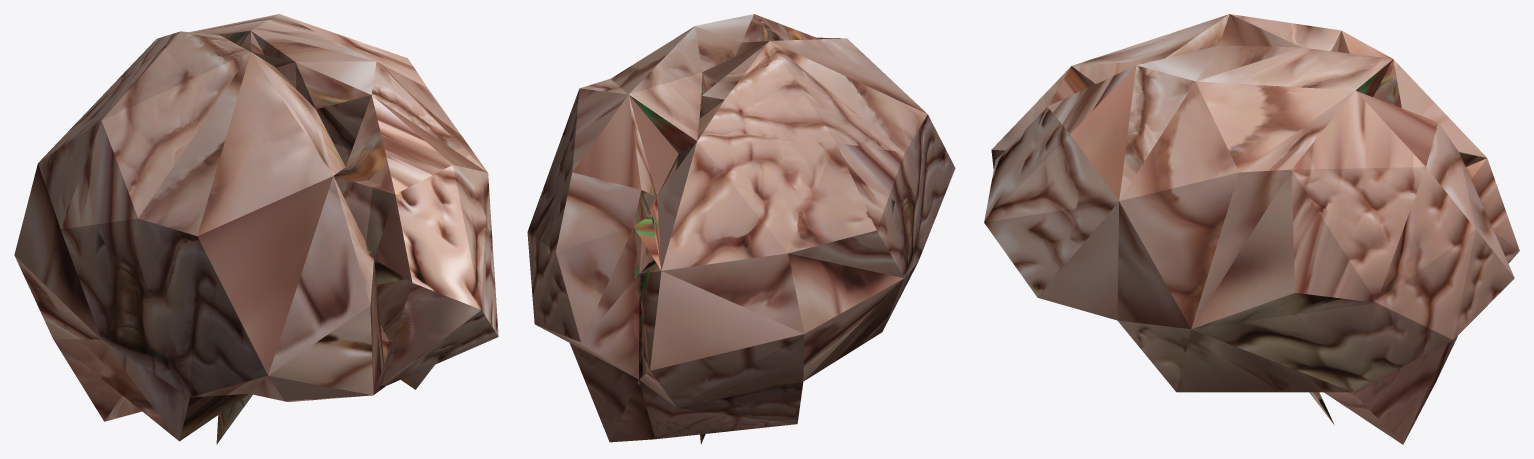
Rendered from brain5.glb.
3 views of the same model, side by side, from view 1: azimuth 30°, elevation 25°; view 2: azimuth 150°, elevation 25°; view 3: azimuth 270°, elevation 25° (orthographic). The views are drawn at different scales.
Parts seen in each view (by area): view 1: Mesh_0.001; view 2: Mesh_0.001; view 3: Mesh_0.001.
Part boxes in pixels (x1=…): Mesh_0.001: x1=14, y1=14, x2=498, y2=444; Mesh_0.001: x1=527, y1=14, x2=955, y2=444; Mesh_0.001: x1=984, y1=14, x2=1519, y2=444.
Bounding box in the file's own units: 1.49 × 1.68 × 2.03.
1 material, 1 textured.
